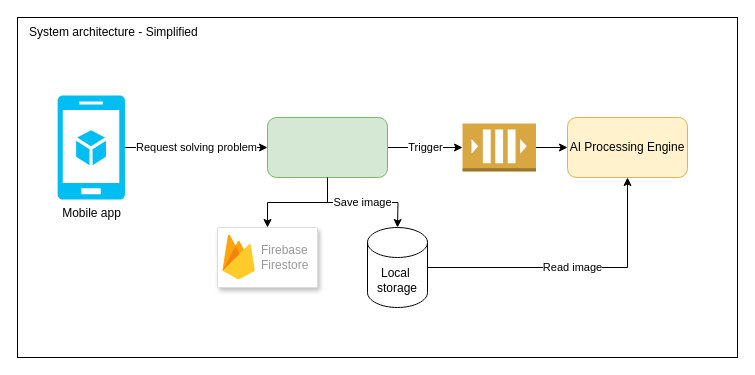
This 755x375 diagram has some shape labels left out. The centre of each missing label's shape, as x and y in pixels:
Process queue: the point at 499,147
Restful API Service: the point at 327,147
